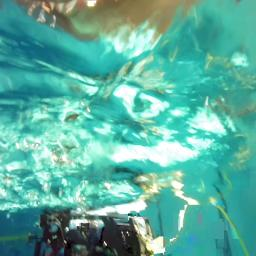Side: (29, 208, 157, 256)
